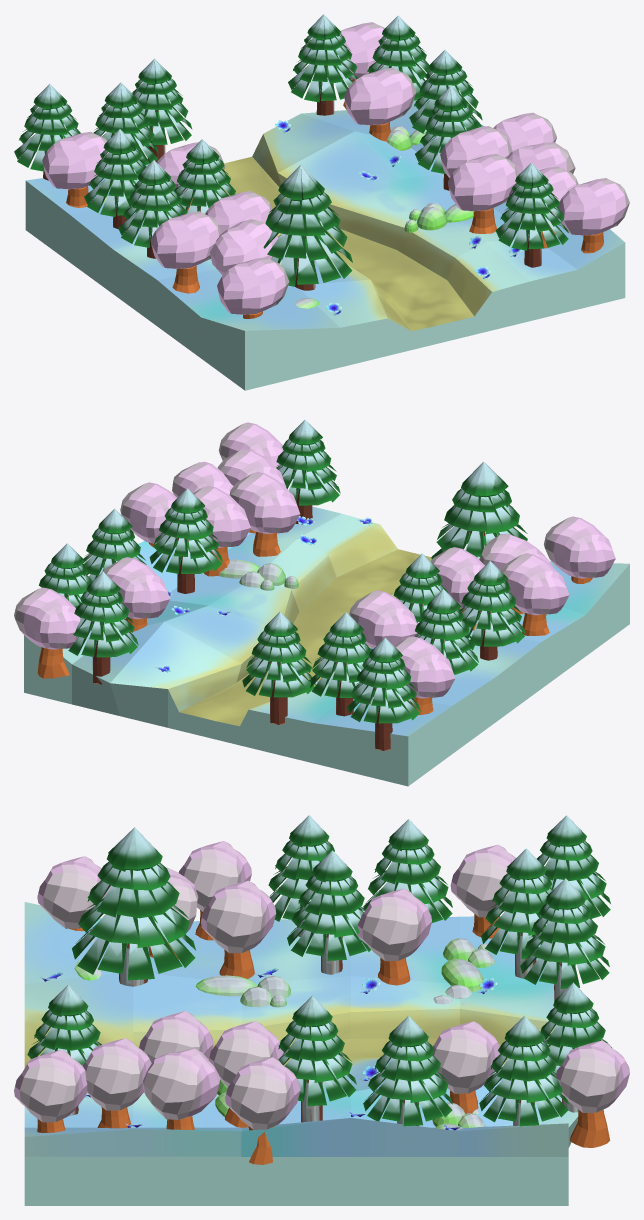
File: Escena_Renacuajo_001.glb
3 views of the same model, one above another, from view 1: azimuth 30°, elevation 25°; view 2: azimuth 150°, elevation 25°; view 3: azimuth 270°, elevation 25° (orthographic). The views are drawn at different scales.
Visible parts, largest first — view 1: Escenario_Renacuajo; view 2: Escenario_Renacuajo; view 3: Escenario_Renacuajo.
Boxes of the visible parts, x1,y1,x2,y2 form: Escenario_Renacuajo: [14, 14, 629, 390]; Escenario_Renacuajo: [14, 420, 629, 786]; Escenario_Renacuajo: [14, 815, 629, 1205].
Size of the model in its own units: 22.06 by 8.5 by 22.65.
Materials: 7 (6 with a texture image).
